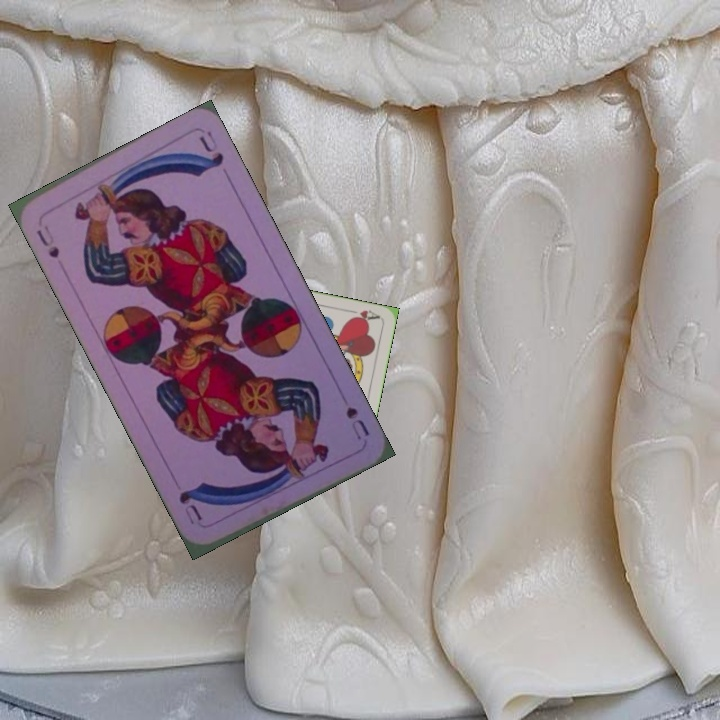HA: (340, 305, 381, 325)
SU: (341, 403, 372, 443), (32, 225, 63, 261)
